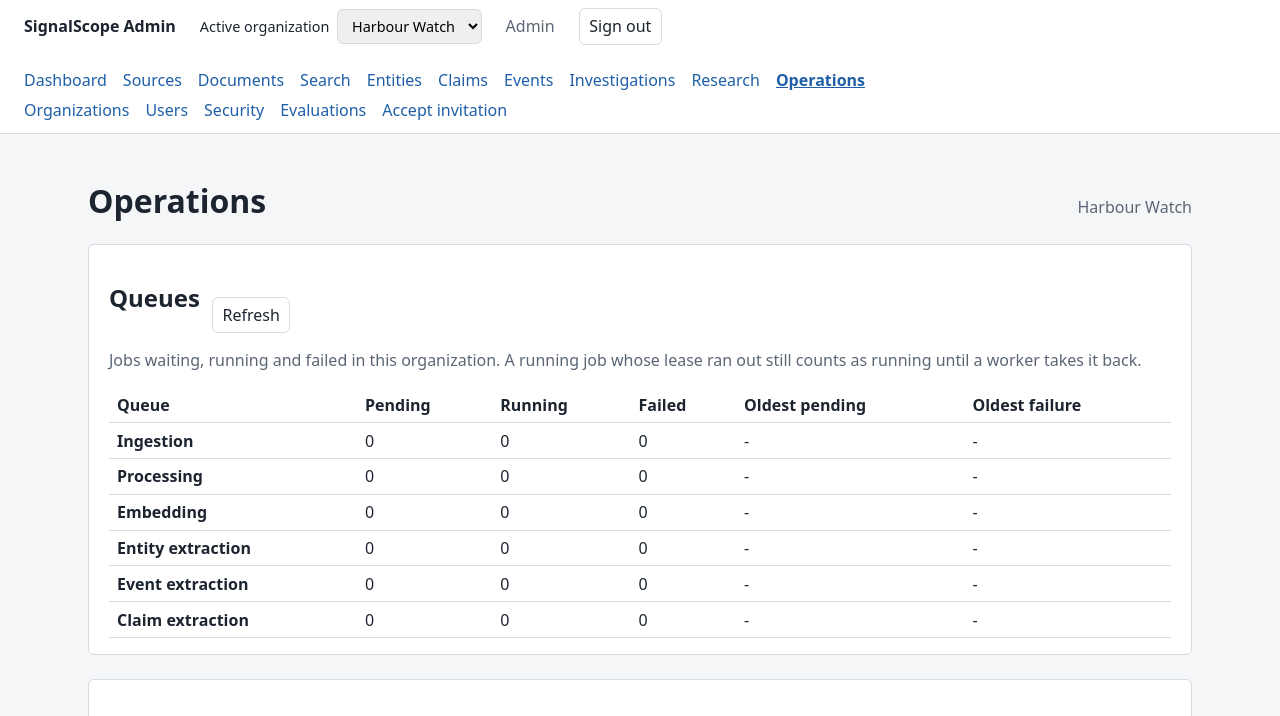
failed job recovery › drops failed jobs of the old organization when switching
The image size is (1280, 716).
Select "River Desk" in the dropdown labelled "Active organization" at (410, 26), box left=337, top=8, right=482, bottom=44
(page scrolled)
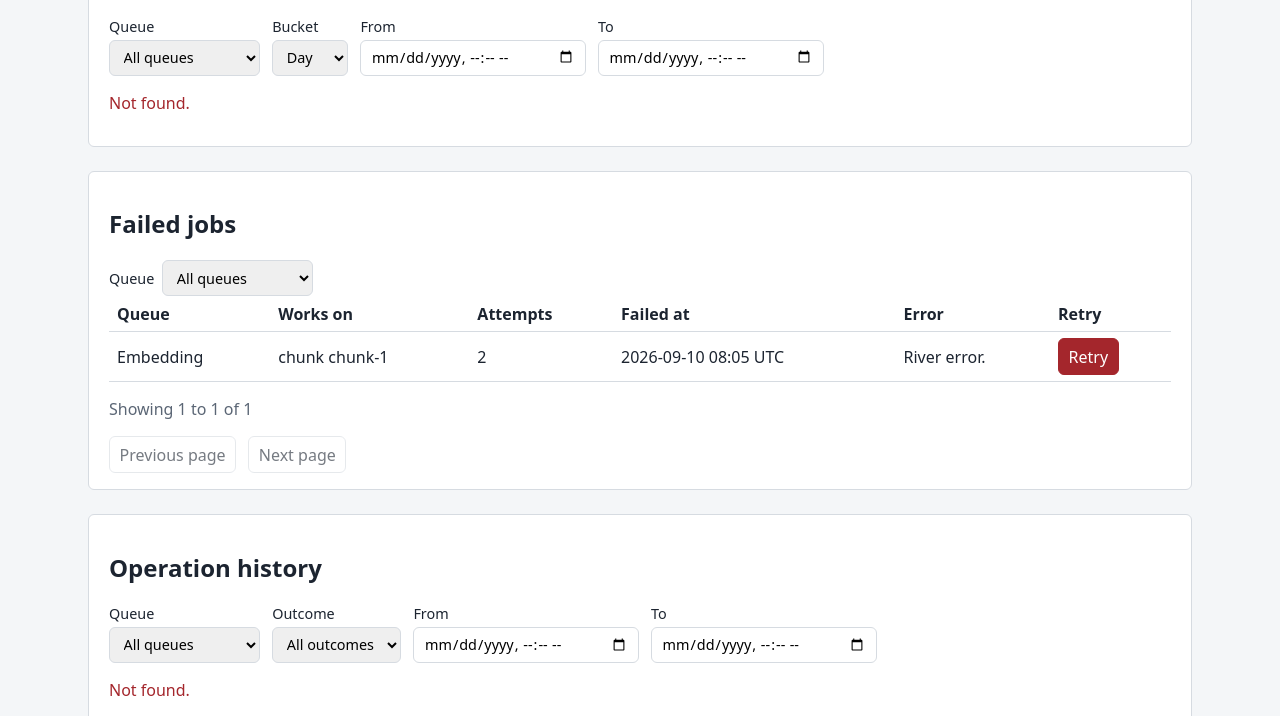
Now the text "River error." is shown, box left=896, top=331, right=1050, bottom=382
